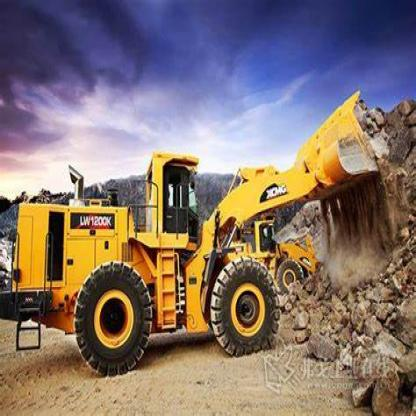bull_dozer/loader/grader: (7, 88, 396, 379)
